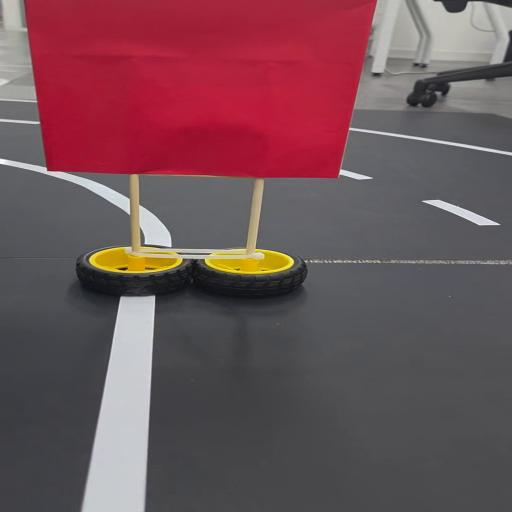Sign_A: (28, 0, 379, 303)
